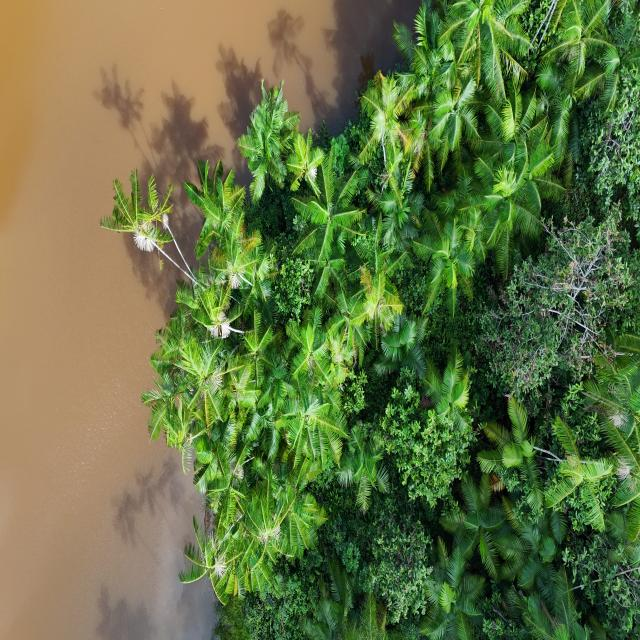vegetation: (99, 1, 638, 638)
